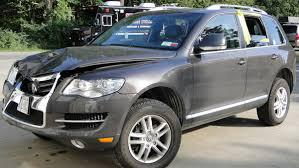bonnet-dent: (22, 40, 115, 77)
front-bumper-dent: (0, 81, 85, 131)
